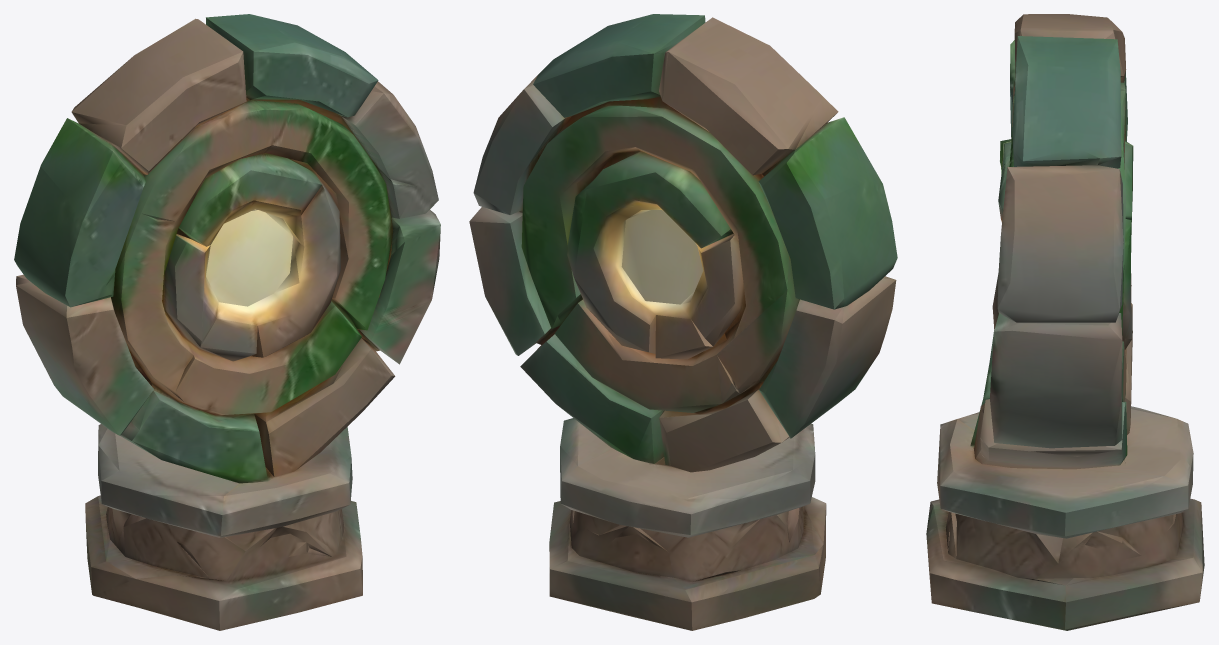
Rendered from m2StoneIdolTarget.glb.
The picture shows the model from 3 angles, left to right: view 1: azimuth 30°, elevation 25°; view 2: azimuth 150°, elevation 25°; view 3: azimuth 270°, elevation 25°; orthographic projection.
Parts seen in each view (by area): view 1: model; view 2: model; view 3: model.
Boxes of the visible parts, bbox=[...] form: model: bbox=[14, 14, 440, 630]; model: bbox=[469, 14, 897, 630]; model: bbox=[926, 14, 1204, 630].
Size of the model in its own units: 1.4 by 1.9 by 0.8936.
Materials: 1 (1 with a texture image).
